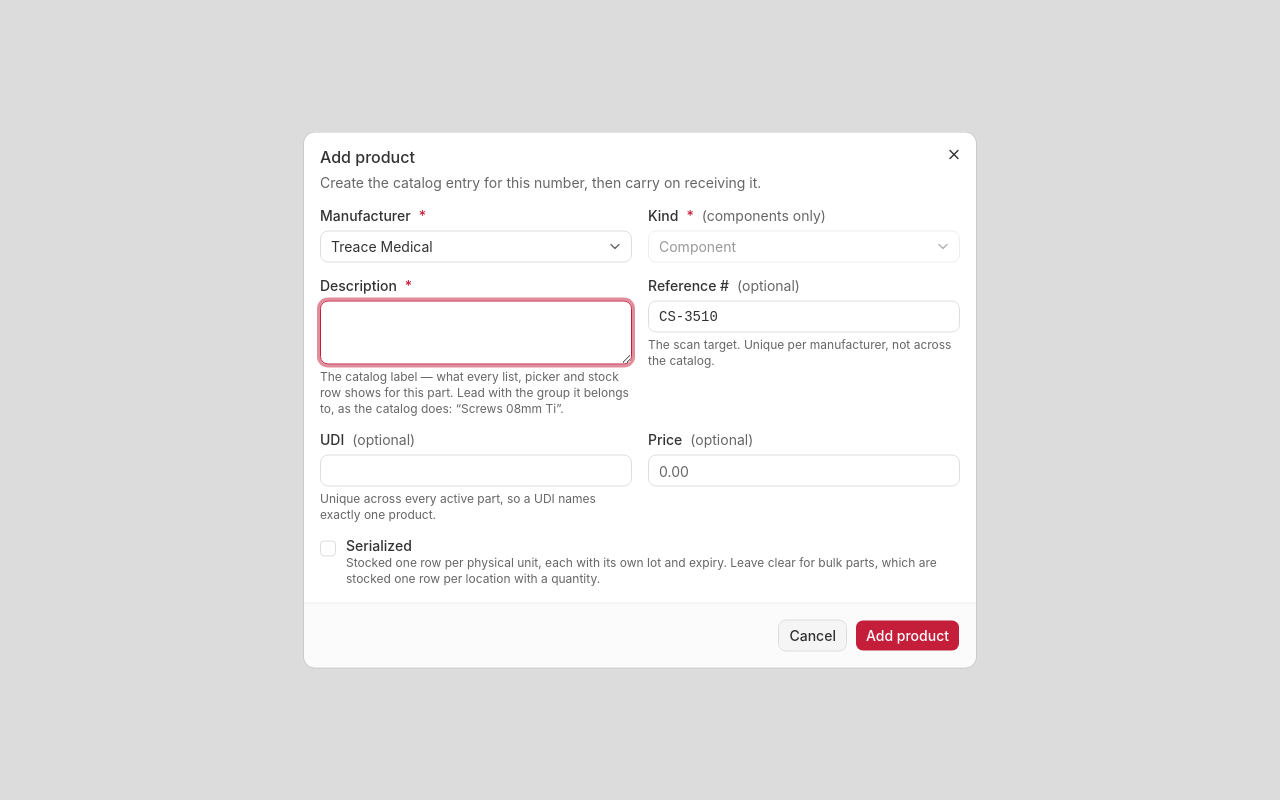
it: AddProductDialog › shows a duplicate catalog number under the reference field
Expected: the dropdown named "manufacturer" shows "Treace", [320,230,632,262]
Type "Reamer Cannulated 4.5mm" into the text box labelled "Description *".
click(476, 332); type("Reamer Cannulated 4.5mm")  # box [320,300,632,364]
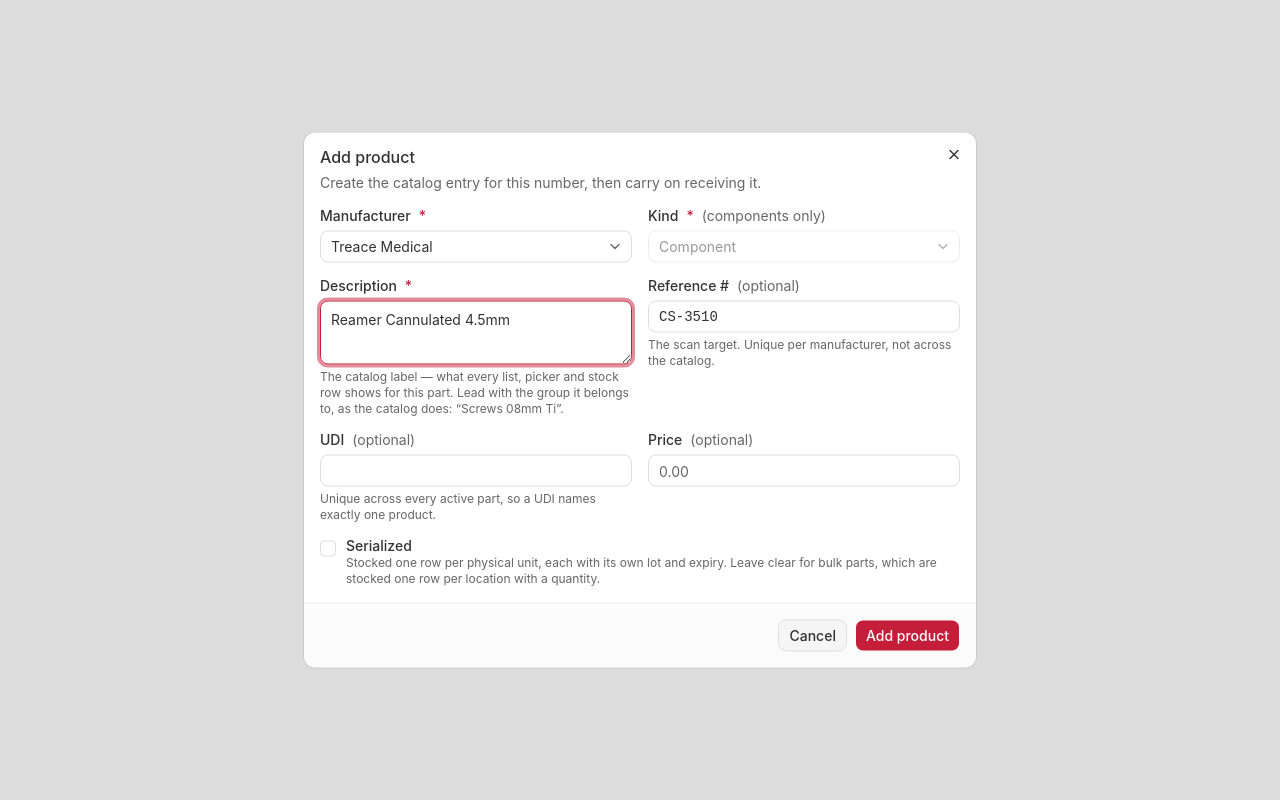
Click the button "Add product".
click(908, 636)  # box [855,620,960,652]
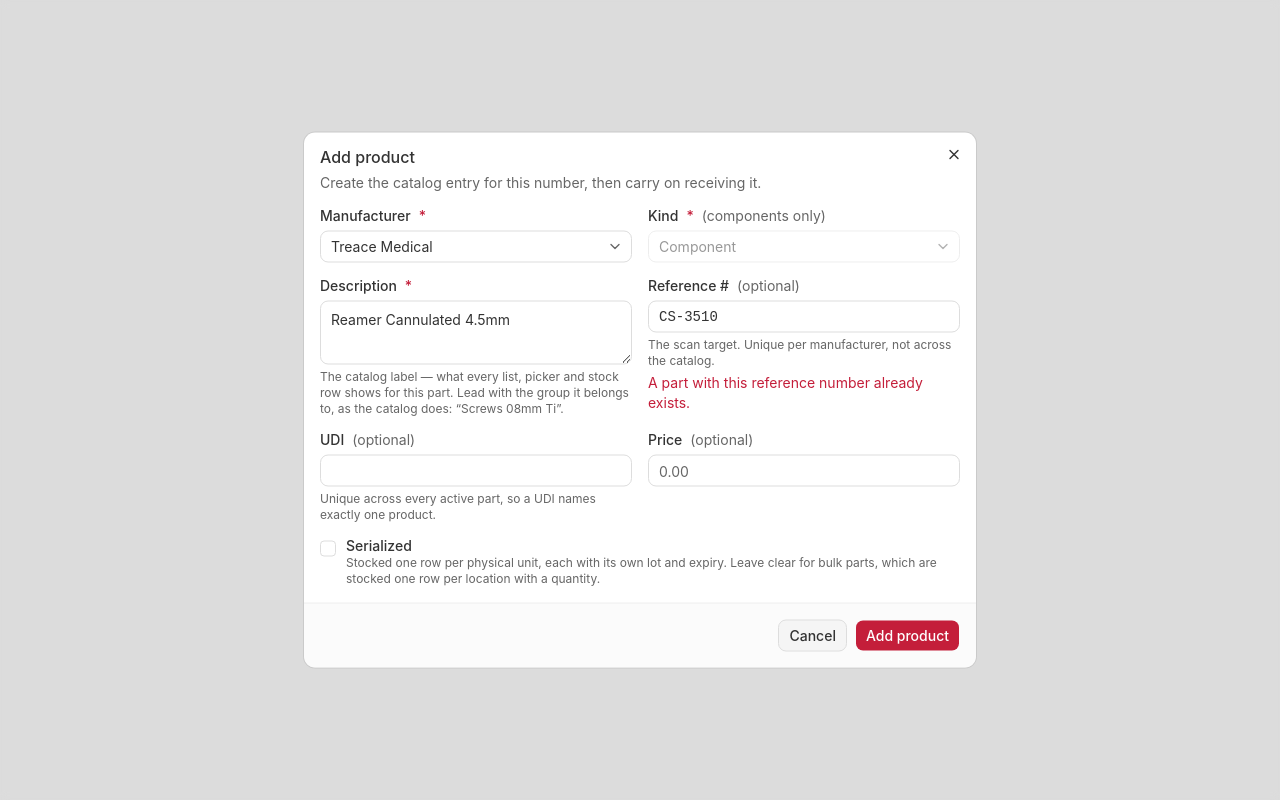
Expected: the text "A part with this reference number already exists." is shown, [648,372,960,412]
